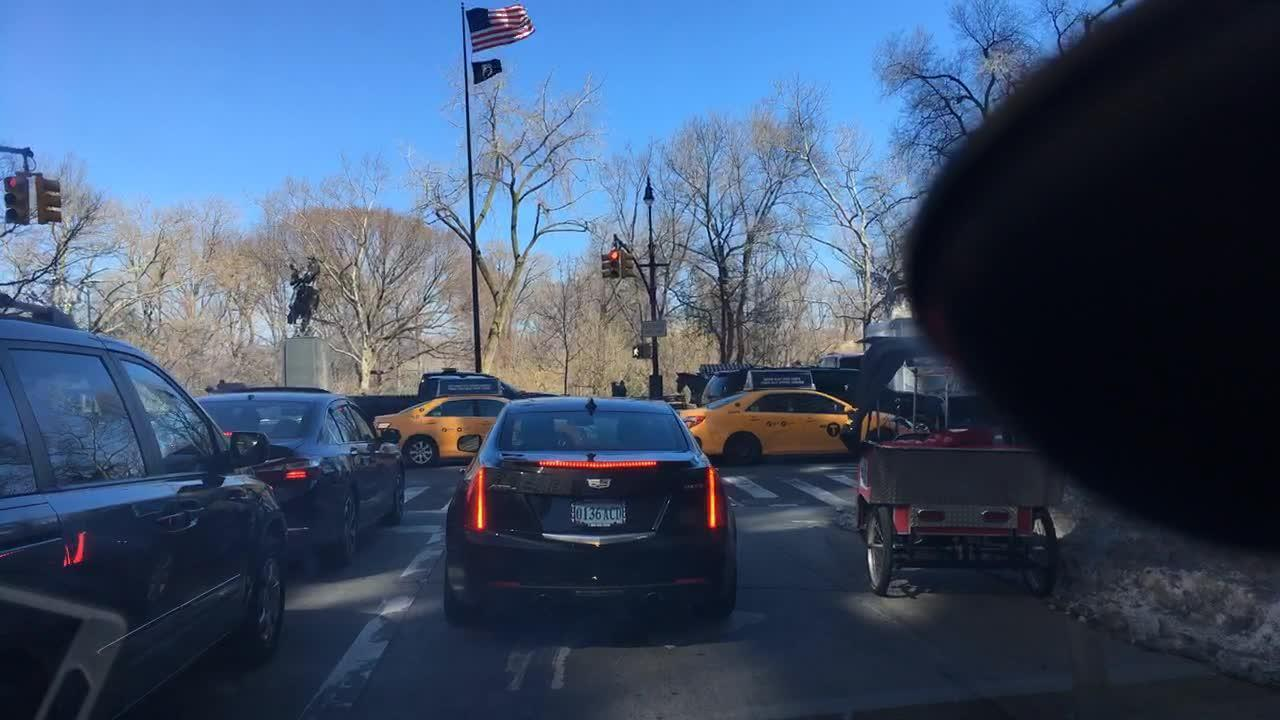cadillac: (586, 476, 613, 492)
